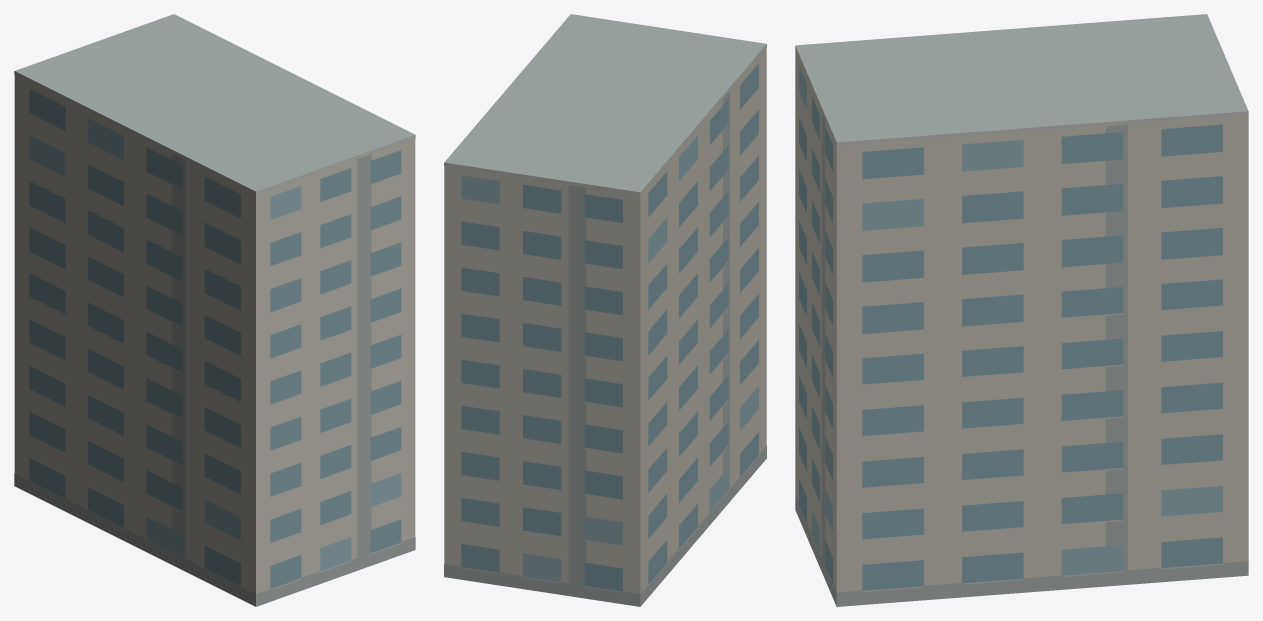
File: residential-cbc83718-5c4c-4662-8cdc-6f681f36ce8e.glb
3 renders of one model, left to right at view 1: azimuth 30°, elevation 25°; view 2: azimuth 150°, elevation 25°; view 3: azimuth 270°, elevation 25°, orthographic. The views are drawn at different scales.
Visible parts, largest first — view 1: residential-cbc83718-5c4c-4662-8cdc-6f681f36ce8e.tmp; view 2: residential-cbc83718-5c4c-4662-8cdc-6f681f36ce8e.tmp; view 3: residential-cbc83718-5c4c-4662-8cdc-6f681f36ce8e.tmp.
Boxes of the visible parts, x1,y1,x2,y2 form: residential-cbc83718-5c4c-4662-8cdc-6f681f36ce8e.tmp: (14, 14, 415, 606); residential-cbc83718-5c4c-4662-8cdc-6f681f36ce8e.tmp: (444, 14, 766, 606); residential-cbc83718-5c4c-4662-8cdc-6f681f36ce8e.tmp: (795, 14, 1248, 606).
Size of the model in its own units: 16.02 by 27 by 23.89.
